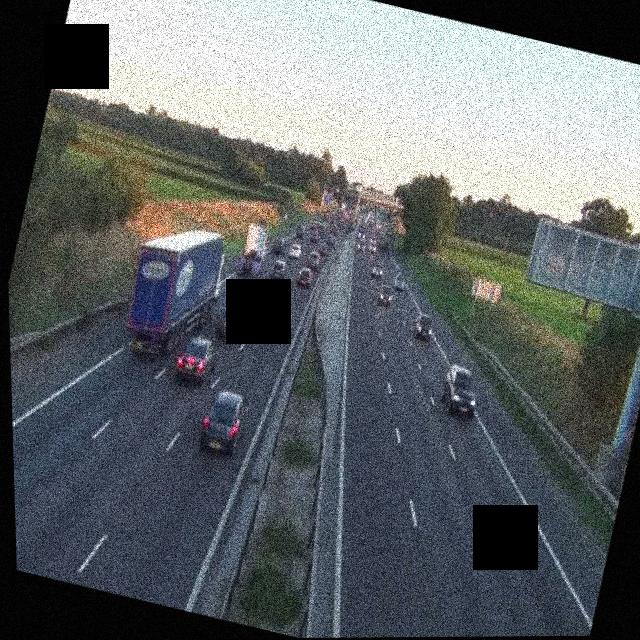car: (195, 386, 252, 456), (171, 328, 222, 387), (435, 361, 485, 420), (215, 302, 249, 340), (239, 276, 268, 311), (265, 301, 294, 335), (411, 310, 436, 341), (266, 257, 287, 282), (295, 264, 315, 289), (376, 282, 394, 305), (268, 236, 285, 257), (305, 251, 322, 271), (391, 271, 408, 290), (287, 242, 302, 259), (370, 263, 384, 280), (319, 238, 331, 254), (356, 239, 366, 251)
truck: (113, 214, 234, 367), (236, 219, 272, 277), (377, 229, 395, 253)
